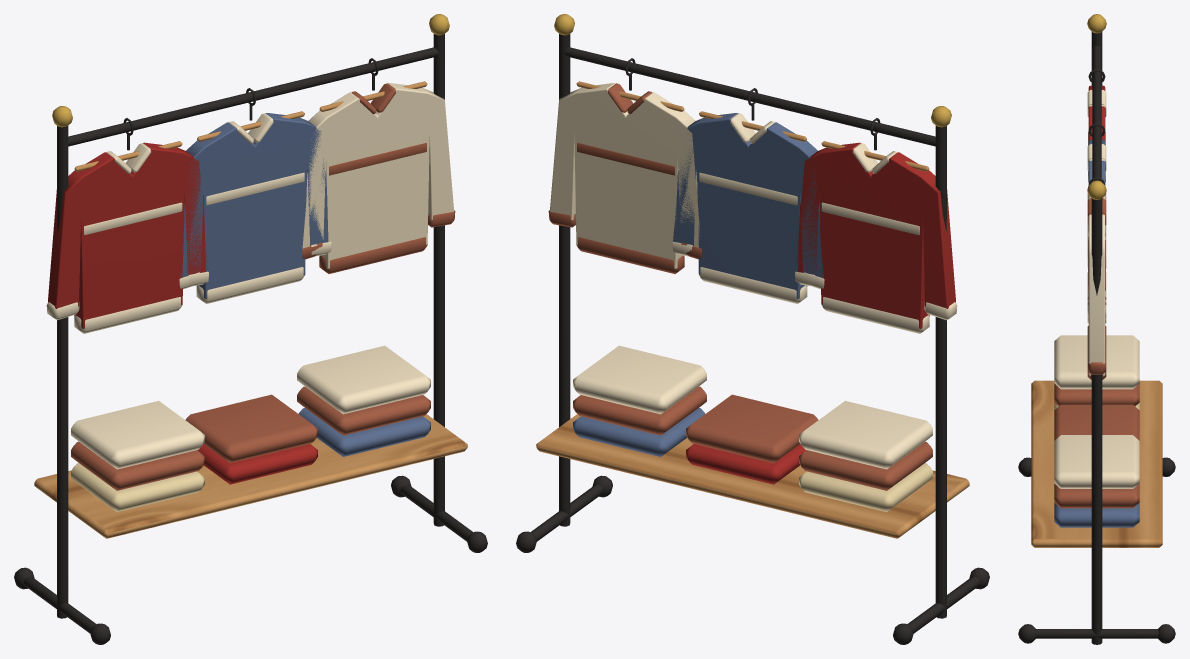
Rendered from sweater_rack.glb.
3 views of the same model, side by side, from view 1: azimuth 30°, elevation 25°; view 2: azimuth 150°, elevation 25°; view 3: azimuth 270°, elevation 25° (orthographic). The views are drawn at different scales.
Visible parts, largest first — view 1: model; view 2: model; view 3: model.
Part boxes in pixels (left/top/right/bottom): model: left=14, top=14, right=487, bottom=644; model: left=516, top=14, right=989, bottom=644; model: left=1018, top=14, right=1175, bottom=644.
Size of the model in its own units: 1.28 by 1.55 by 0.48.
8 materials, 1 textured.
